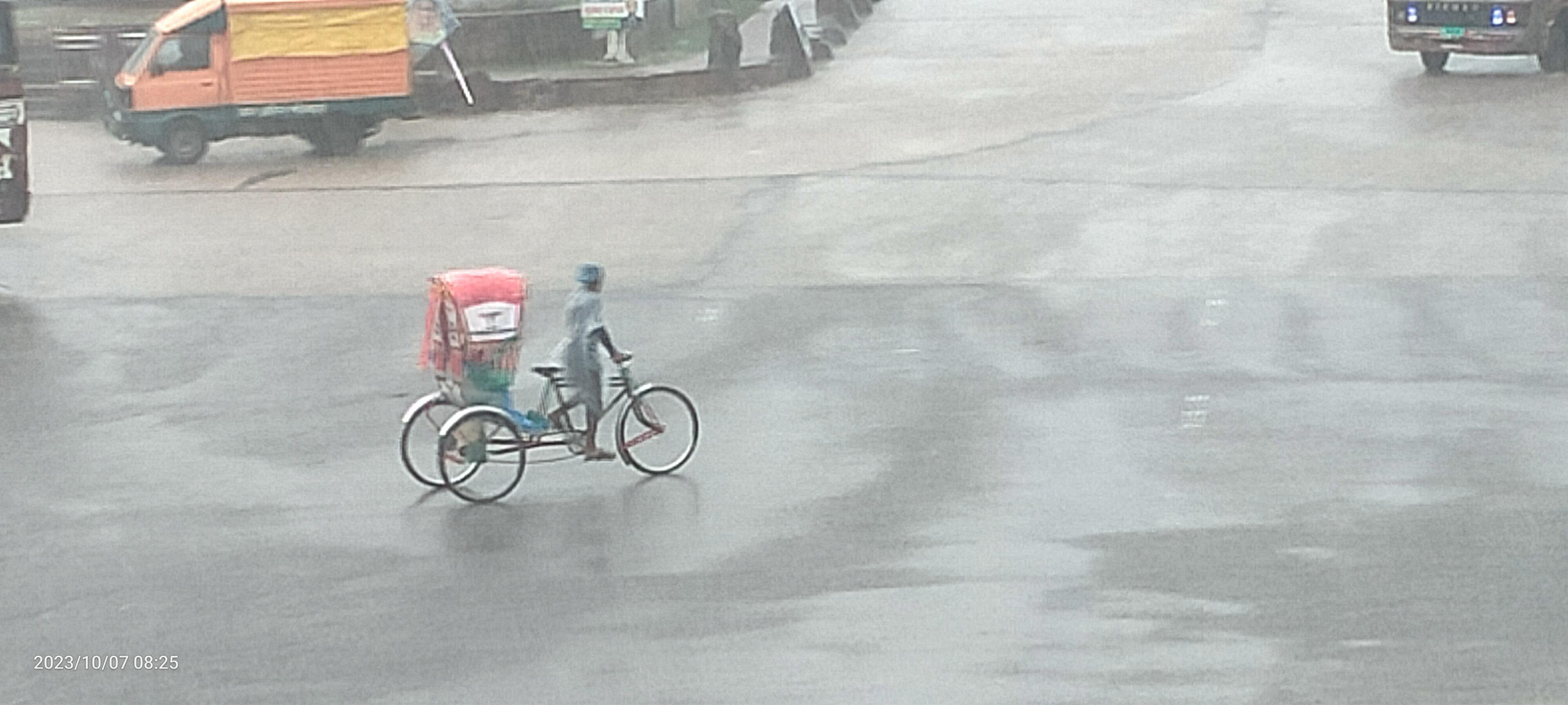Bus: (1367, 0, 1568, 105), (0, 0, 66, 251)
Car: (368, 233, 723, 555), (78, 0, 434, 205)
